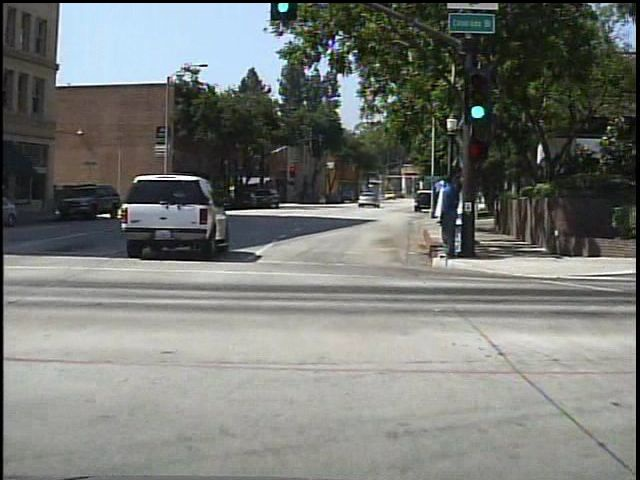person: (435, 172, 462, 262), (428, 177, 453, 263), (317, 192, 328, 207)
